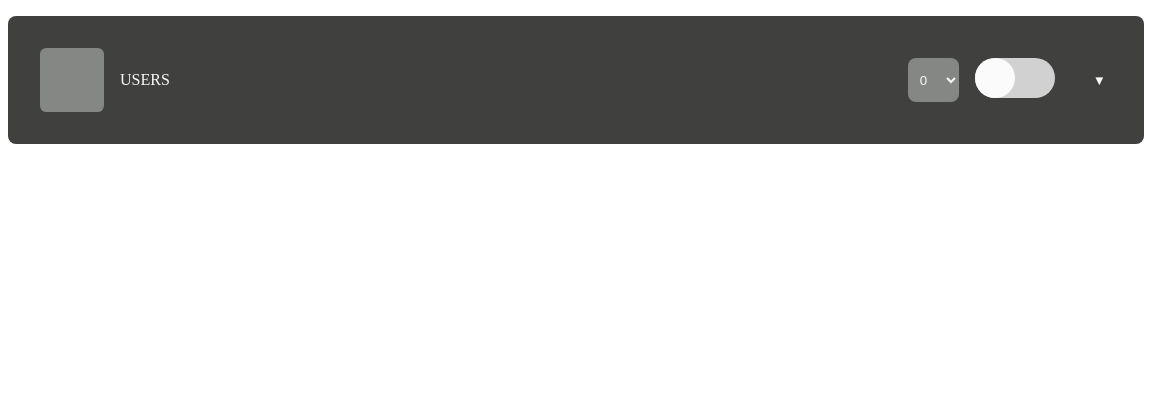
Scenario: Control › when control has child controls › should render with the correct "Toggle" state
Expected: the text "Users Add" is not shown
Expected: the text "Users Delete" is not shown
Click the button named "Open Child Controls" at (1099, 80), box [1087,58,1112,102]
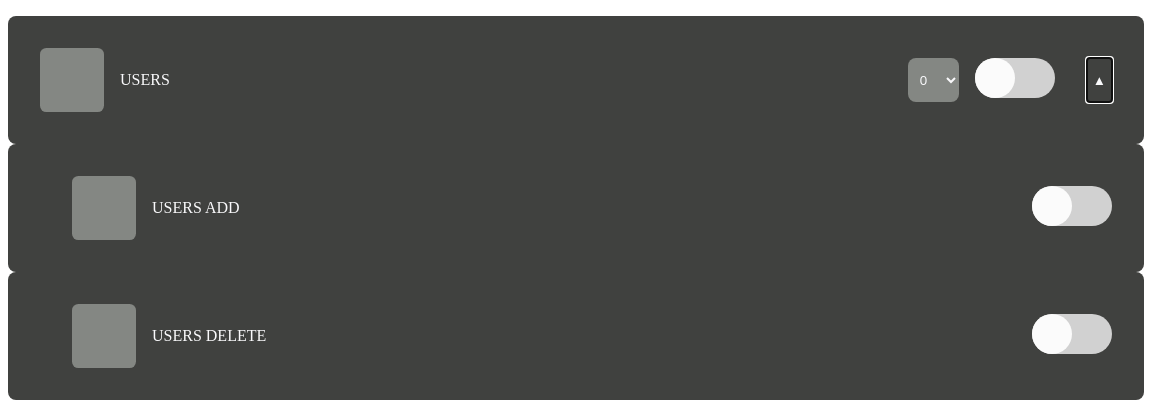
Expected: the text "Users Add" is shown, [152,199,240,217]
Expected: the text "Users Delete" is shown, [152,327,266,345]
